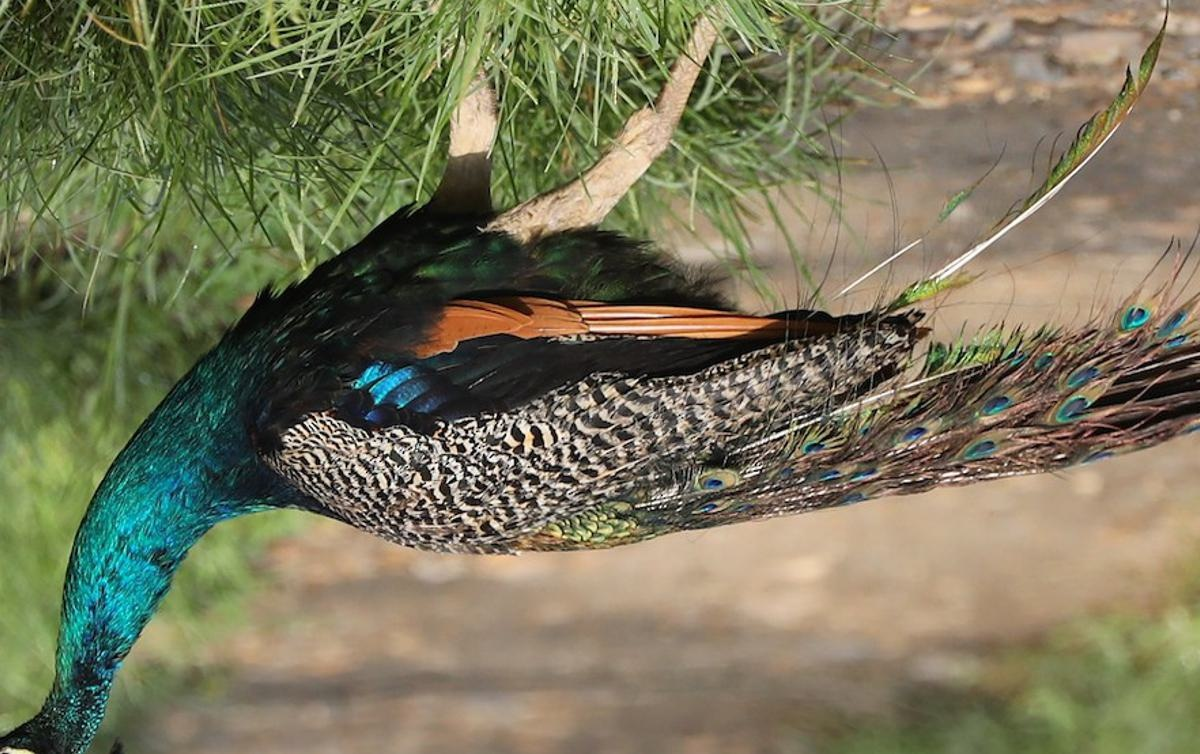peacock: (20, 145, 1195, 743)
